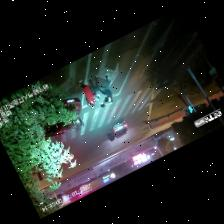person: (88, 75, 107, 101), (78, 80, 94, 104), (98, 75, 111, 102), (93, 96, 104, 107), (85, 98, 94, 108)
